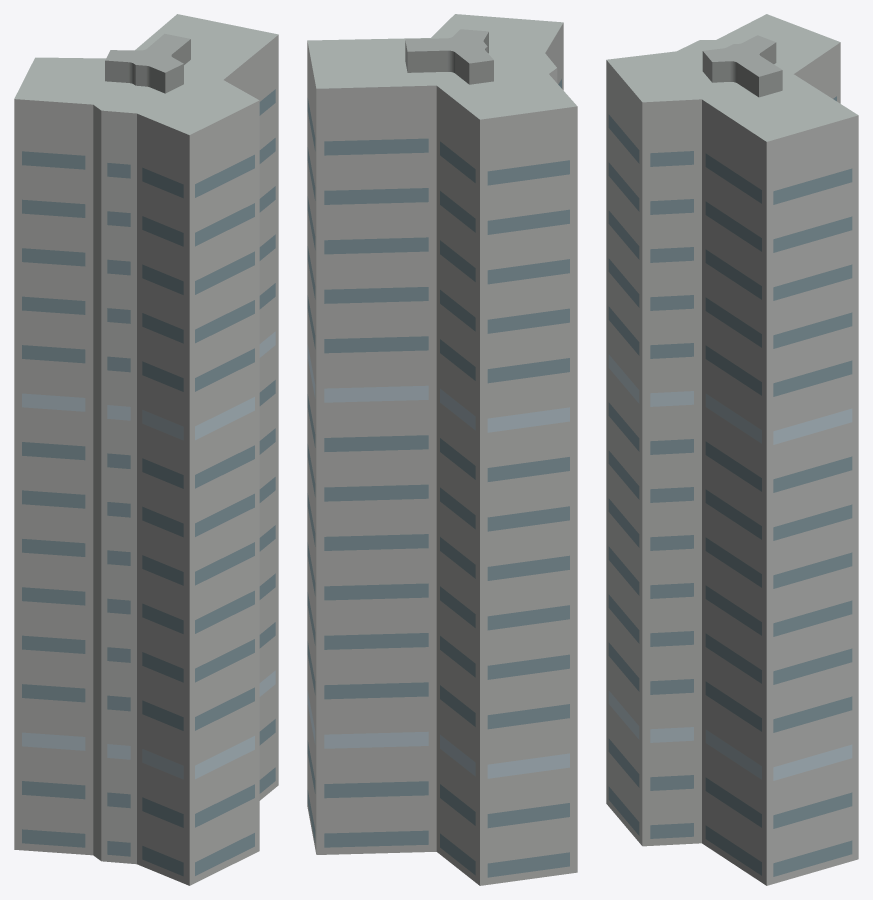
File: fallback-gangdong-lotte-castle-first-123.glb
The picture shows the model from 3 angles, left to right: view 1: azimuth 30°, elevation 25°; view 2: azimuth 150°, elevation 25°; view 3: azimuth 270°, elevation 25°; orthographic projection. The views are drawn at different scales.
Parts seen in each view (by area): view 1: fallback-gangdong-lotte-castle-first-123; view 2: fallback-gangdong-lotte-castle-first-123; view 3: fallback-gangdong-lotte-castle-first-123.
Boxes of the visible parts, box(x1,y1,x2,y2) form: fallback-gangdong-lotte-castle-first-123: box(14, 14, 278, 885); fallback-gangdong-lotte-castle-first-123: box(307, 14, 577, 885); fallback-gangdong-lotte-castle-first-123: box(606, 14, 858, 885).
Bounding box in the file's own units: 31.95 × 89 × 26.62.
